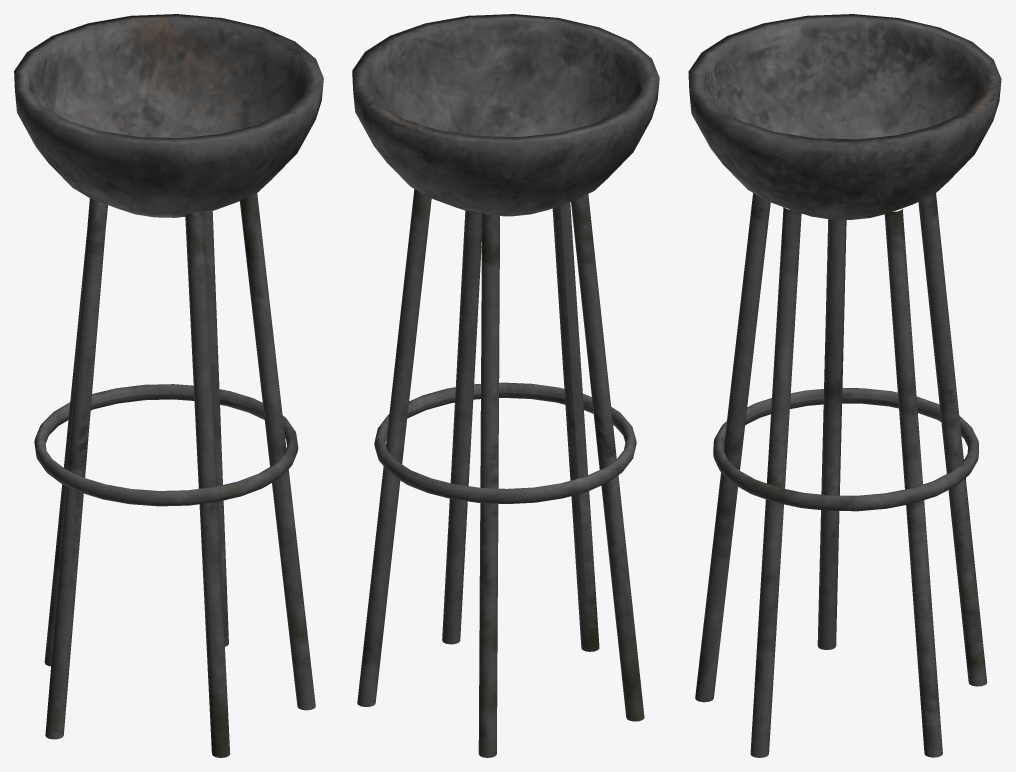
The model's file is BP_Torch_Stand.gltf.
3 renders of one model, left to right at view 1: azimuth 30°, elevation 25°; view 2: azimuth 150°, elevation 25°; view 3: azimuth 270°, elevation 25°, orthographic.
Parts seen in each view (by area): view 1: SM_smallstand; view 2: SM_smallstand; view 3: SM_smallstand.
Part boxes in pixels (box(x1,y1,x2,y2)): SM_smallstand: box(14, 14, 323, 757); SM_smallstand: box(352, 14, 659, 757); SM_smallstand: box(688, 14, 1001, 757).
Size of the model in its own units: 0.4243 by 0.9363 by 0.4237.
1 material, 1 textured.
